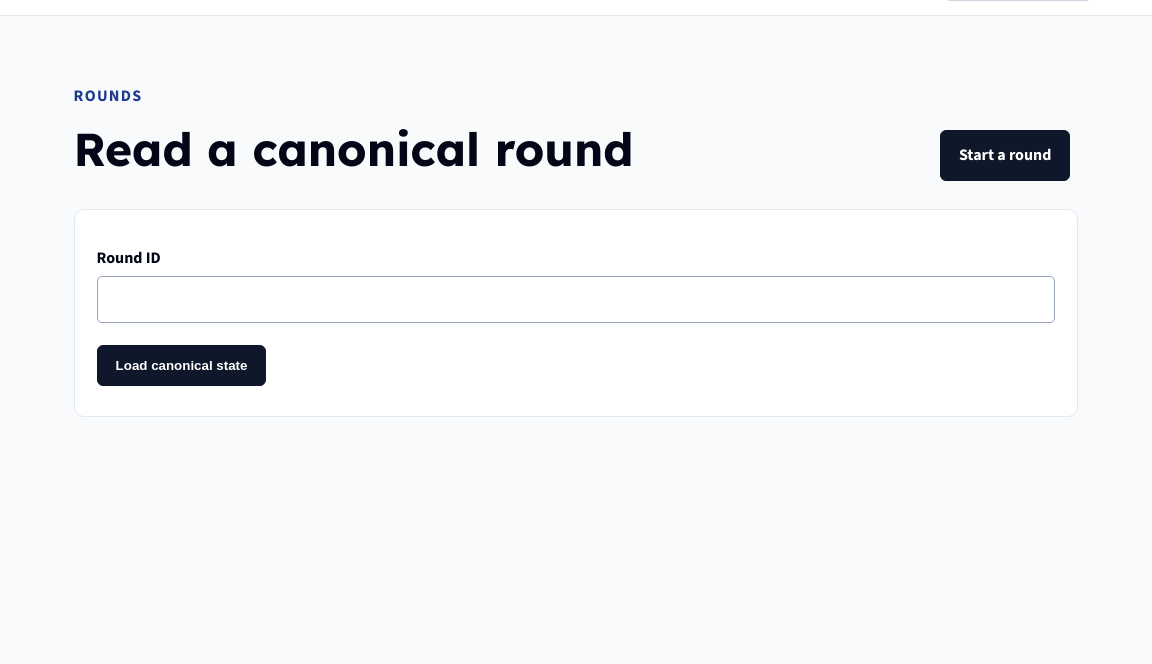
Test: MandateMesh product shell › does not offer a sponsor withdrawal after the credit has been withdrawn
Type "closed-round" into the field labelled "Round ID" at (576, 299), box x1=97 y1=276 x2=1055 y2=323
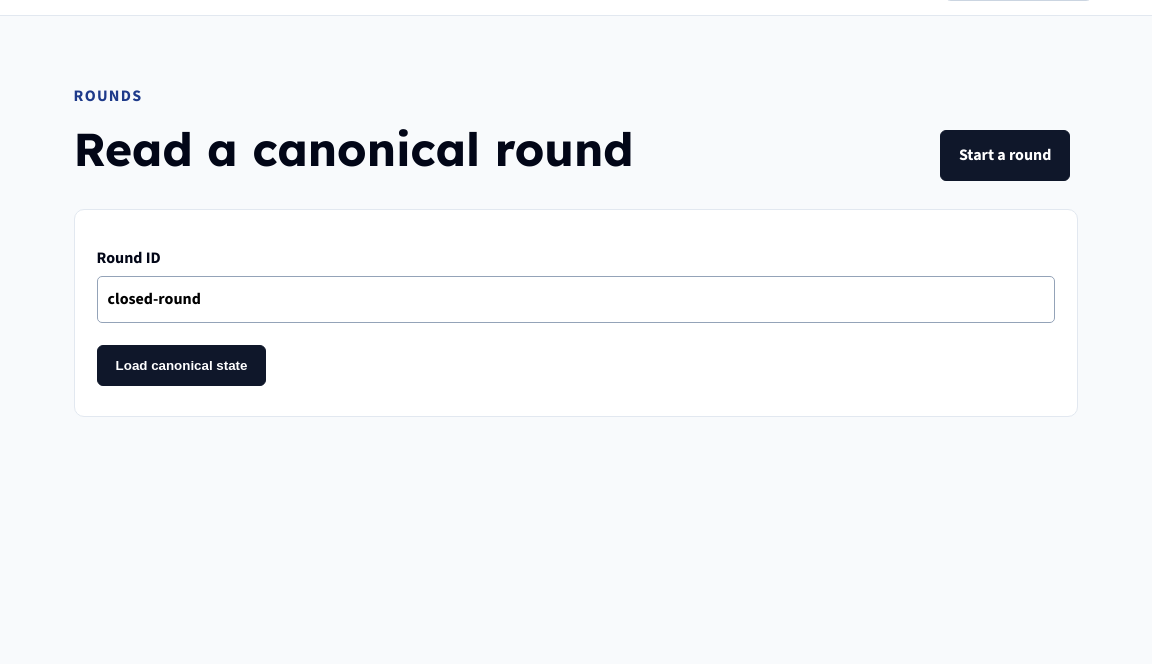
Click the button "Load canonical state" at (182, 365), box x1=97 y1=345 x2=266 y2=386
(page scrolled)
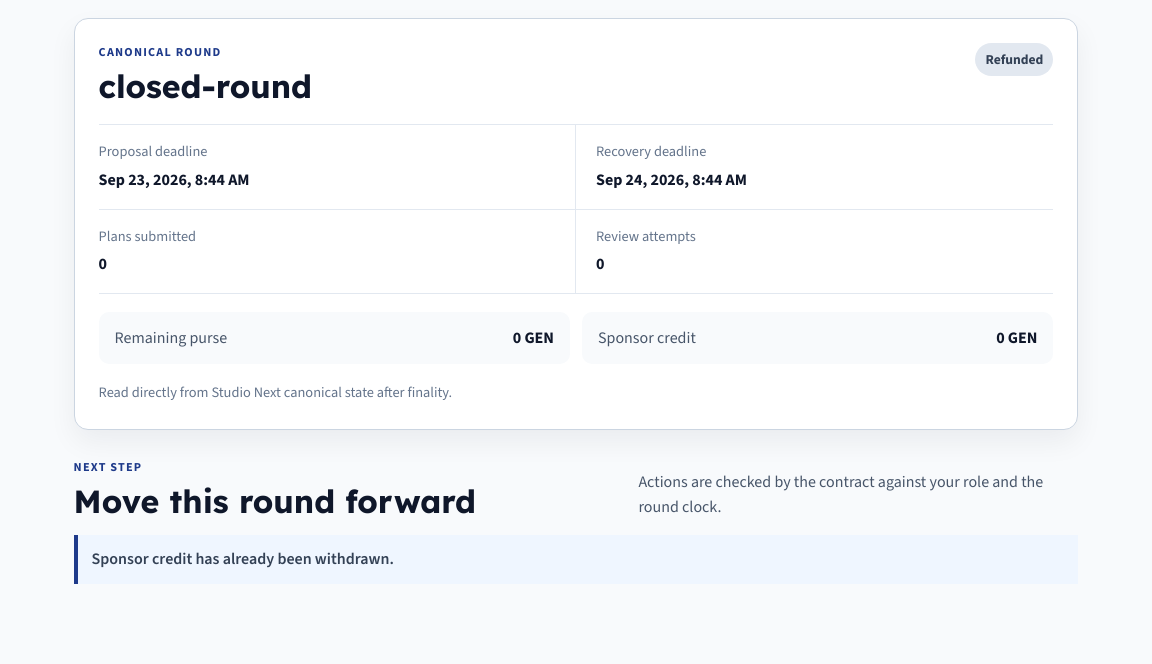
Expected: the button "Withdraw sponsor credit" is not shown
Expected: the text "Sponsor credit has already been withdrawn." is shown, x1=92 y1=548 x2=394 y2=569
